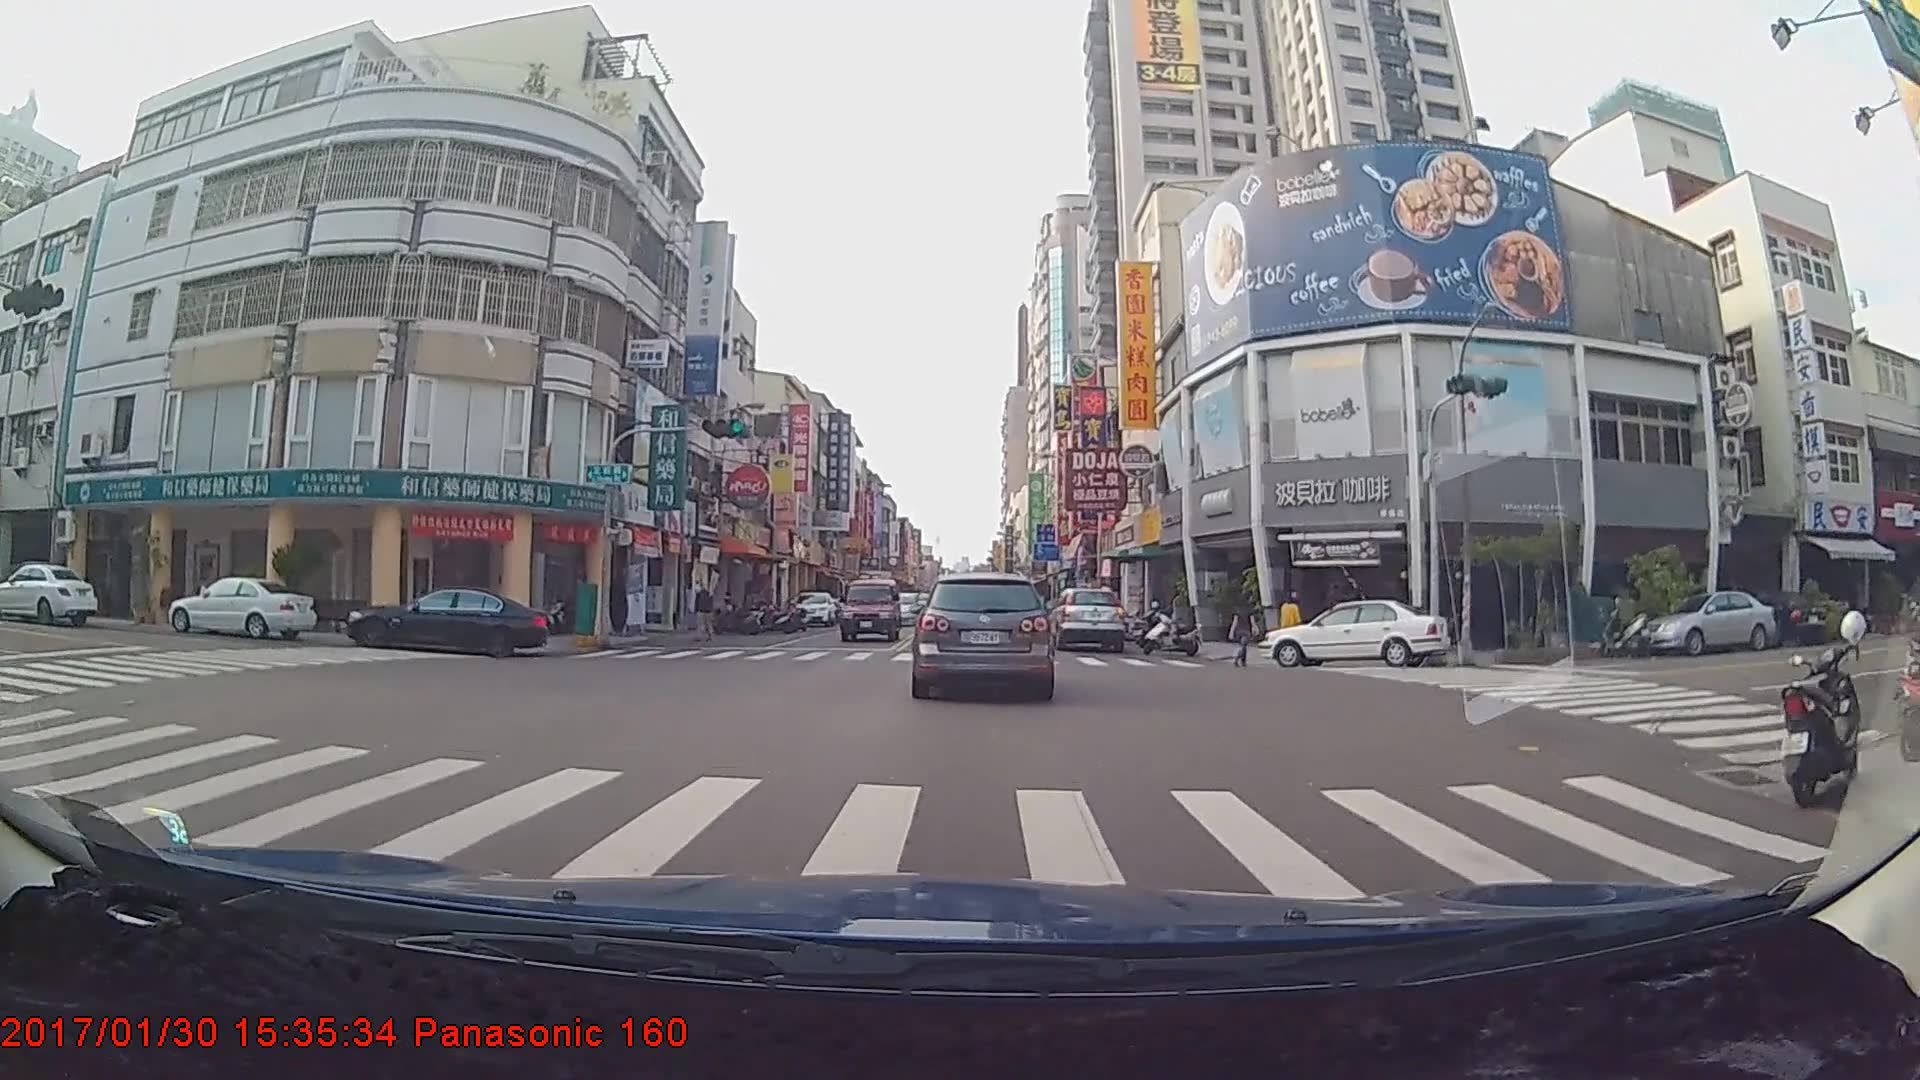pedestrian: (1231, 593, 1261, 669), (1277, 591, 1306, 664), (692, 580, 717, 643)
vehicle: (912, 571, 1052, 698), (342, 582, 549, 654), (1261, 597, 1449, 666), (170, 574, 319, 642), (1639, 588, 1776, 655), (1, 558, 101, 627), (1047, 582, 1125, 649), (836, 576, 901, 642), (789, 589, 836, 628)
